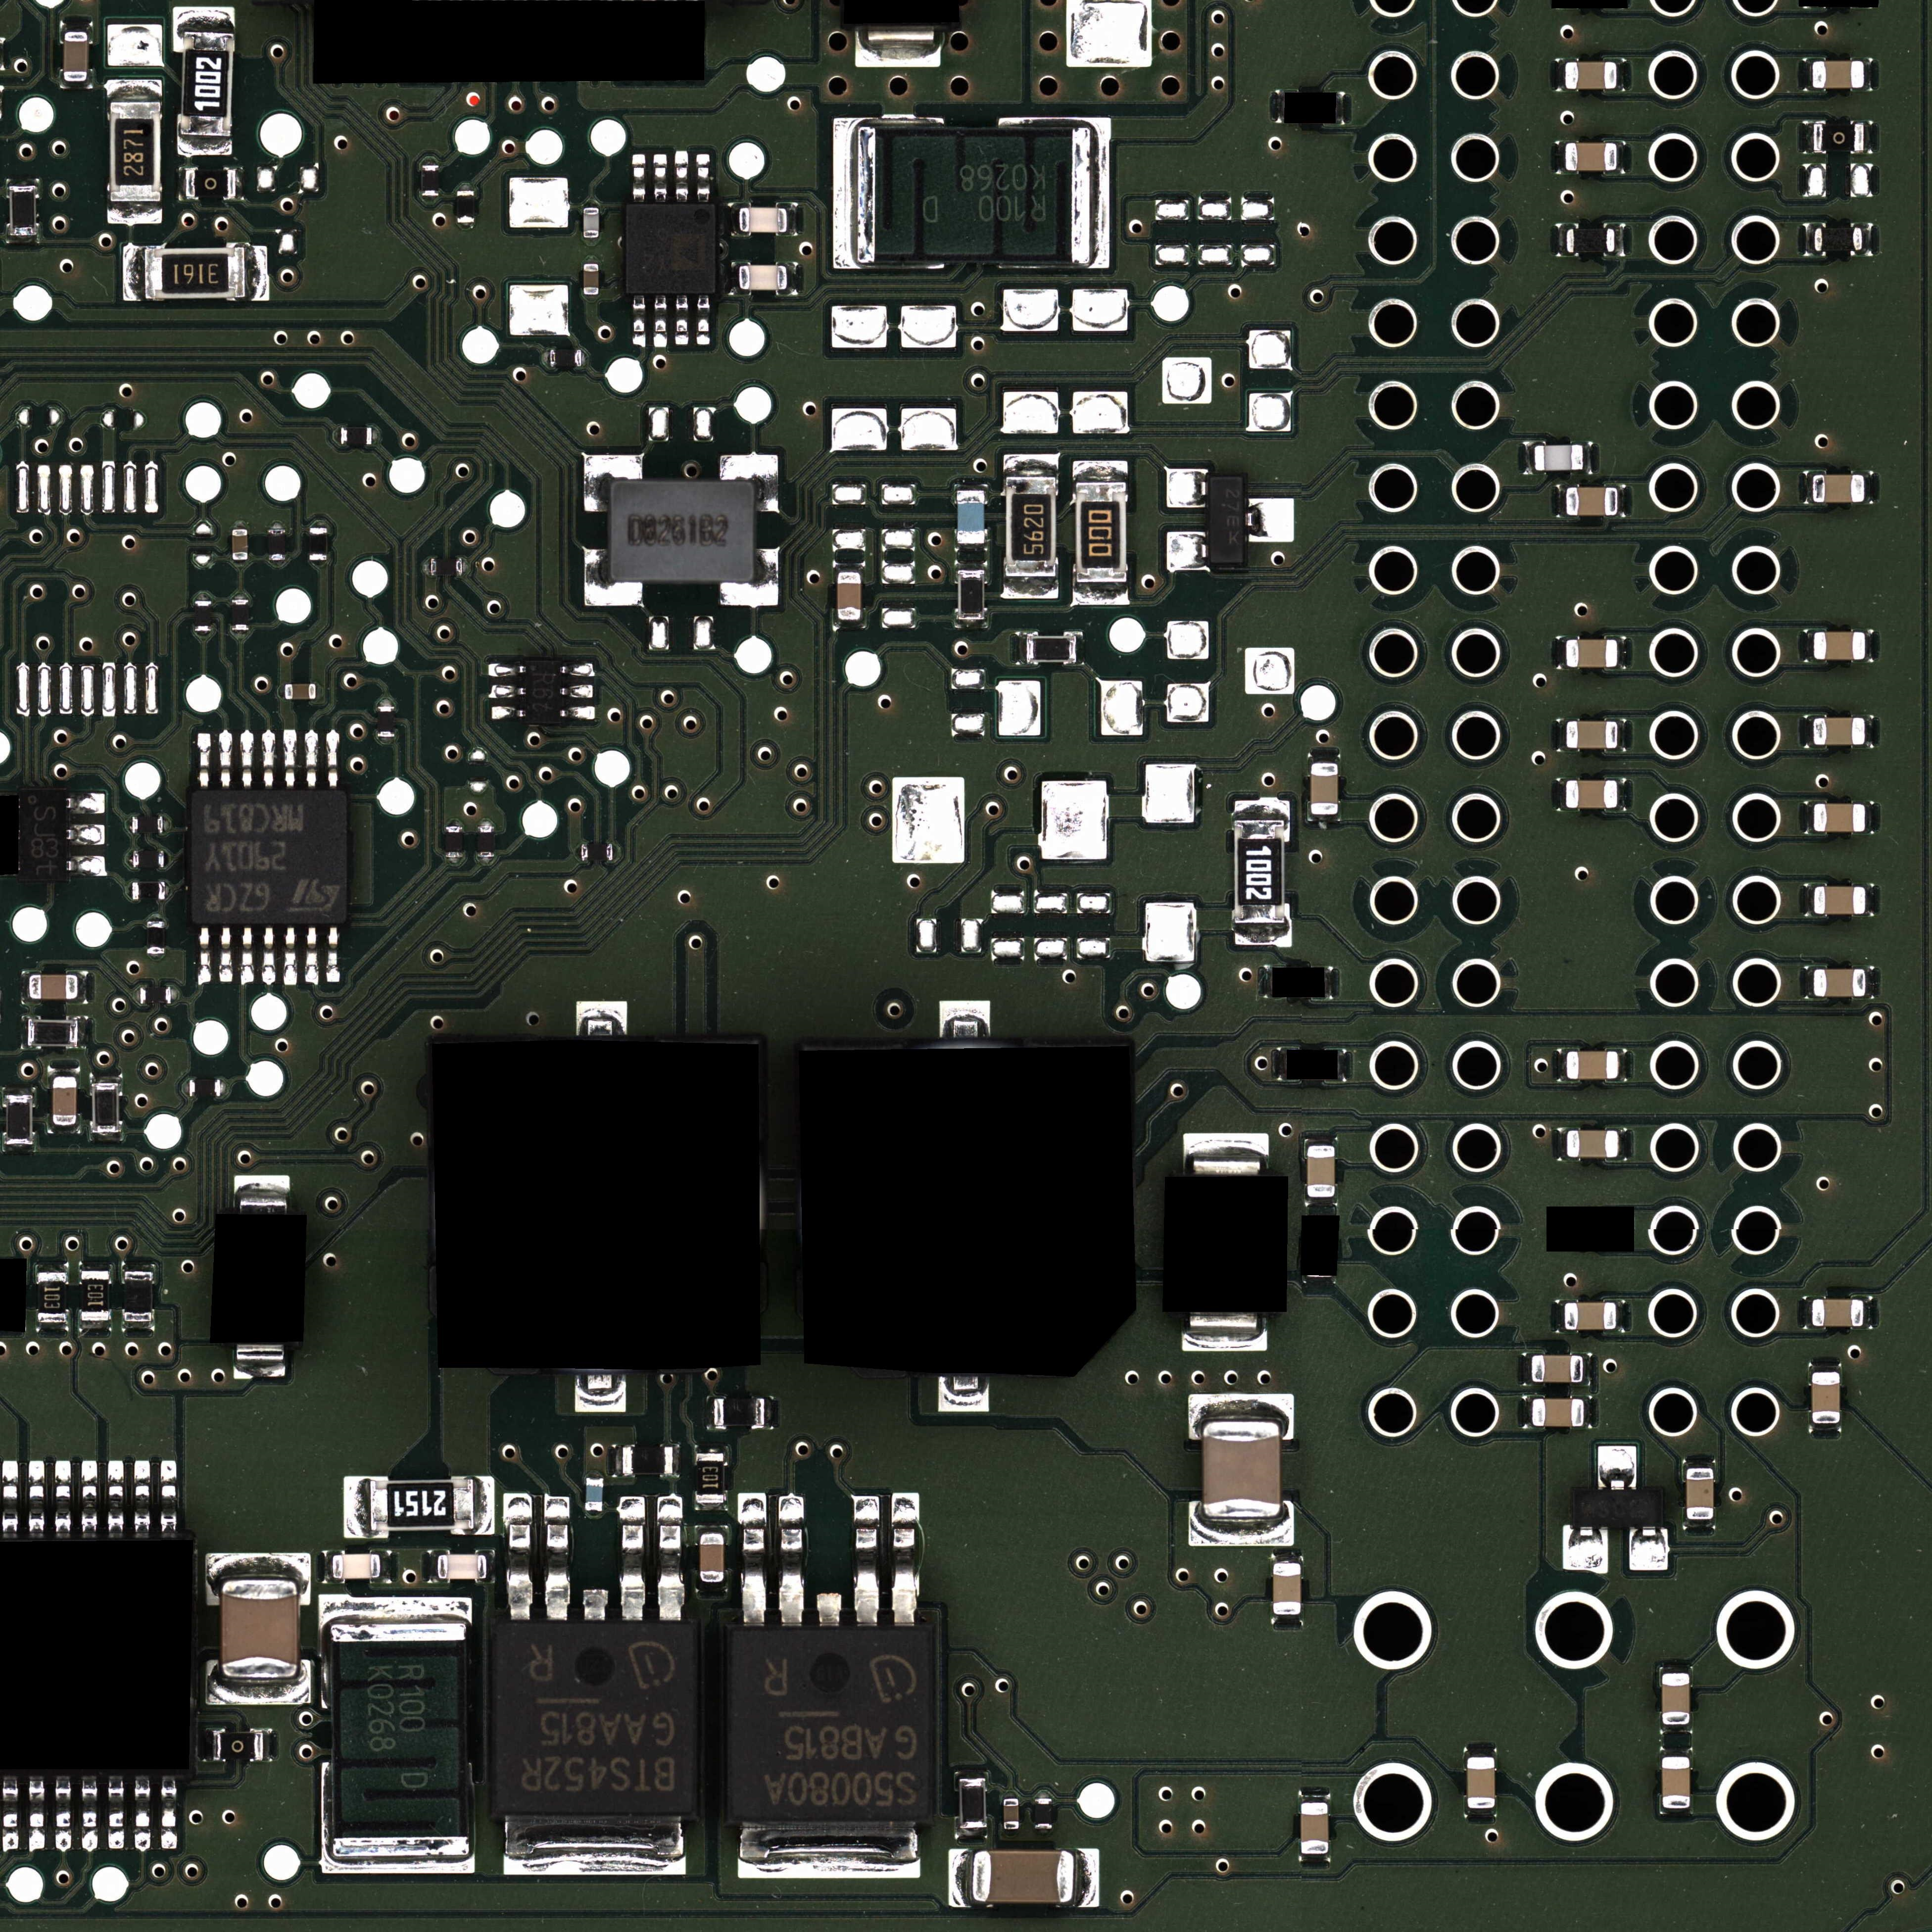Package: (493, 1623, 693, 1815), (729, 1630, 929, 1821), (859, 127, 1088, 268), (331, 1624, 466, 1855), (190, 789, 348, 926), (604, 480, 760, 581), (624, 203, 717, 295), (219, 1580, 299, 1678), (1201, 1422, 1283, 1517), (180, 32, 234, 136), (1233, 821, 1287, 923), (370, 1479, 473, 1532), (1075, 482, 1127, 582), (144, 247, 245, 299), (1005, 476, 1056, 577), (110, 101, 161, 202), (973, 1852, 1073, 1903), (21, 789, 66, 881), (1573, 1489, 1663, 1527), (1208, 476, 1245, 564), (525, 660, 561, 722), (957, 490, 985, 543), (1565, 143, 1617, 171), (186, 169, 236, 198), (1813, 631, 1865, 660), (1813, 804, 1865, 832), (1565, 721, 1617, 750), (714, 1398, 765, 1427), (1812, 475, 1865, 503), (1814, 886, 1867, 914), (1812, 718, 1865, 746), (1814, 631, 1866, 660), (1814, 804, 1865, 832), (1467, 1757, 1496, 1809), (1661, 1673, 1690, 1725), (623, 1446, 673, 1475), (1814, 886, 1866, 915), (1565, 61, 1617, 90), (1565, 780, 1617, 809), (1532, 1399, 1584, 1427), (1566, 487, 1618, 516), (1814, 969, 1866, 997), (1566, 1051, 1618, 1079), (1307, 1146, 1335, 1198), (1565, 639, 1617, 668), (1813, 123, 1864, 152), (1566, 639, 1617, 668), (1567, 1130, 1618, 1158), (1686, 1468, 1714, 1520), (1566, 721, 1618, 749), (1532, 1355, 1584, 1383), (1812, 61, 1864, 89), (1812, 1299, 1864, 1327), (1812, 1372, 1840, 1423), (1662, 1757, 1690, 1808), (1273, 1563, 1301, 1615), (1813, 718, 1865, 745), (1564, 1303, 1616, 1330), (1301, 1802, 1328, 1854), (1310, 763, 1338, 815), (124, 1271, 152, 1321), (81, 1271, 109, 1320), (697, 1453, 724, 1503), (213, 1733, 263, 1760), (38, 1272, 66, 1322), (29, 1019, 78, 1047), (958, 570, 985, 619), (10, 186, 36, 236), (960, 1779, 986, 1828), (93, 1083, 119, 1132), (1534, 445, 1583, 471), (6, 1095, 32, 1144), (1027, 636, 1076, 662), (29, 974, 78, 1000), (1566, 229, 1615, 254), (739, 265, 787, 290), (739, 207, 787, 233), (438, 1554, 486, 1579), (700, 1533, 724, 1583), (837, 572, 861, 621), (333, 1554, 381, 1579), (1814, 228, 1862, 252), (52, 1076, 76, 1125), (65, 32, 88, 81), (132, 882, 165, 900), (309, 528, 328, 560), (585, 1478, 603, 1511), (550, 349, 581, 367), (421, 165, 439, 196), (147, 921, 164, 954), (340, 427, 372, 445), (445, 826, 463, 858), (457, 191, 474, 223), (133, 850, 164, 868), (189, 1079, 221, 1097), (268, 529, 286, 560), (378, 706, 395, 737), (1035, 1798, 1052, 1829), (132, 816, 163, 833), (232, 599, 249, 630), (478, 826, 494, 857), (431, 559, 462, 576), (194, 600, 211, 631), (141, 986, 171, 1003), (581, 844, 613, 860), (285, 683, 316, 699), (232, 529, 248, 560), (1004, 1798, 1019, 1830), (583, 263, 598, 294), (583, 207, 599, 237)
Solder: (503, 1816, 686, 1876), (737, 1822, 920, 1879), (318, 1597, 472, 1624), (739, 1494, 767, 1626), (505, 1494, 533, 1622), (833, 119, 857, 269), (891, 1493, 918, 1628), (778, 1496, 805, 1626), (854, 1496, 880, 1628), (1181, 1133, 1270, 1171), (1180, 1316, 1269, 1353), (721, 454, 778, 512), (584, 455, 642, 512), (721, 549, 778, 606), (656, 1496, 682, 1621), (544, 1496, 570, 1621), (620, 1496, 645, 1621), (584, 550, 642, 606), (854, 31, 942, 66), (1189, 1517, 1294, 1546), (1188, 1394, 1294, 1421), (1090, 119, 1110, 268), (207, 1678, 311, 1706), (205, 1553, 311, 1579), (321, 1856, 476, 1874), (233, 1175, 292, 1212), (1246, 498, 1294, 542), (1563, 1527, 1608, 1571), (939, 1001, 991, 1038), (937, 1376, 991, 1412), (574, 1376, 627, 1412), (576, 1001, 627, 1036), (232, 1349, 288, 1380), (1597, 1446, 1637, 1490), (1629, 1528, 1668, 1570), (1166, 531, 1207, 570), (1167, 469, 1207, 507), (1074, 1848, 1100, 1907), (947, 1849, 973, 1908), (1, 1775, 21, 1853), (53, 1775, 73, 1853), (80, 1775, 99, 1853), (133, 1774, 152, 1852), (173, 7, 235, 31), (27, 1775, 46, 1853), (107, 1775, 126, 1853), (159, 1775, 179, 1852), (344, 1477, 369, 1538), (159, 1460, 178, 1538), (53, 1460, 72, 1539), (133, 1459, 151, 1538), (80, 1459, 98, 1538), (1, 1460, 20, 1538), (27, 1459, 46, 1538), (106, 1459, 124, 1538), (1234, 924, 1292, 947), (1072, 583, 1129, 606), (246, 245, 268, 301), (1003, 454, 1059, 476), (107, 203, 162, 225), (1003, 578, 1059, 599), (106, 80, 162, 101), (123, 245, 144, 301), (474, 1477, 494, 1534), (1072, 461, 1128, 482), (1234, 799, 1290, 820), (178, 137, 232, 156), (67, 855, 107, 876), (66, 793, 105, 814), (583, 1589, 608, 1621), (284, 927, 297, 986), (219, 729, 233, 788), (262, 927, 276, 985), (67, 824, 105, 845), (305, 927, 319, 985), (198, 927, 211, 985), (262, 729, 275, 787), (241, 927, 254, 985), (241, 729, 254, 787), (326, 927, 340, 983), (818, 1593, 841, 1626), (284, 729, 296, 787), (197, 732, 211, 788), (219, 927, 233, 983), (653, 296, 668, 348), (305, 729, 318, 787), (675, 151, 689, 201), (675, 295, 689, 346), (327, 729, 338, 788), (632, 296, 646, 347), (696, 153, 710, 202), (696, 296, 710, 346), (653, 153, 667, 201), (632, 154, 646, 202), (487, 663, 525, 676), (489, 685, 525, 698), (562, 663, 594, 676), (561, 706, 595, 720), (491, 706, 525, 719), (562, 685, 593, 698), (1015, 632, 1026, 665), (1077, 632, 1088, 666), (321, 1551, 332, 1583), (381, 1550, 392, 1583), (1524, 441, 1534, 475), (787, 203, 798, 236), (787, 262, 798, 294), (955, 1829, 988, 1838), (1584, 441, 1594, 474), (1464, 1747, 1497, 1757), (79, 1321, 111, 1331), (1308, 753, 1340, 763), (60, 22, 93, 32), (1866, 1297, 1876, 1329), (1660, 1810, 1692, 1820), (264, 1729, 273, 1762), (729, 203, 739, 236), (1809, 1362, 1841, 1372), (1523, 1396, 1532, 1428), (1802, 1296, 1811, 1328), (1555, 1301, 1564, 1333), (1660, 1747, 1692, 1756), (1808, 1424, 1841, 1433), (765, 1396, 773, 1429), (704, 1397, 713, 1430), (612, 1445, 621, 1478), (955, 620, 987, 629), (122, 1262, 155, 1271), (674, 1444, 683, 1477), (1263, 966, 1272, 998), (1556, 719, 1565, 752), (1556, 637, 1565, 670), (122, 1322, 154, 1331), (79, 1261, 111, 1270), (730, 262, 739, 294), (1556, 778, 1565, 811), (1805, 223, 1814, 255), (833, 562, 865, 571), (1585, 1397, 1594, 1429), (1308, 815, 1341, 824), (1325, 966, 1334, 999), (1339, 1050, 1348, 1082), (1863, 224, 1872, 256), (1615, 224, 1624, 256), (1557, 224, 1566, 256), (1617, 140, 1626, 172), (1617, 59, 1626, 91), (1555, 59, 1564, 92), (429, 1549, 437, 1583), (955, 561, 987, 570), (36, 1263, 68, 1272), (1299, 1793, 1331, 1802), (1271, 1615, 1303, 1624), (6, 236, 39, 244), (1659, 1664, 1692, 1673), (7, 176, 41, 185), (487, 1550, 495, 1583), (1271, 1554, 1303, 1563), (48, 1067, 79, 1076), (3, 1085, 35, 1094), (1619, 1128, 1628, 1159), (1337, 92, 1345, 125), (833, 621, 866, 629), (1683, 1520, 1716, 1529), (1523, 1353, 1531, 1386), (3, 1145, 36, 1153), (1298, 1856, 1330, 1864), (1275, 91, 1284, 124), (1584, 1353, 1593, 1386), (1618, 636, 1627, 669), (1465, 1809, 1497, 1817), (49, 1126, 81, 1134), (696, 1584, 728, 1593), (955, 544, 987, 553), (1556, 141, 1564, 173), (91, 1074, 122, 1082), (696, 1525, 727, 1533), (1617, 1301, 1625, 1332), (696, 1445, 727, 1453), (91, 1133, 122, 1141), (1557, 1128, 1566, 1159), (1619, 1049, 1628, 1080), (1557, 1049, 1566, 1080), (1683, 1459, 1716, 1467), (236, 167, 244, 200), (1618, 484, 1626, 517), (178, 167, 186, 200), (1305, 1137, 1338, 1145), (1304, 1198, 1337, 1206), (1866, 472, 1874, 504), (1618, 778, 1626, 811), (695, 1503, 727, 1511), (955, 1770, 987, 1778), (1660, 1725, 1692, 1733), (204, 1729, 212, 1761), (1557, 484, 1565, 517), (1804, 472, 1812, 504), (21, 971, 29, 1003), (79, 972, 87, 1003), (79, 1015, 87, 1047), (37, 1323, 68, 1331), (1618, 719, 1626, 751), (20, 1016, 28, 1048), (1304, 1278, 1335, 1285), (1866, 966, 1873, 999), (1279, 1048, 1286, 1081), (1806, 883, 1813, 916), (1805, 966, 1812, 998), (1867, 883, 1874, 916), (1805, 801, 1812, 833), (1804, 715, 1811, 747), (1806, 628, 1813, 661), (60, 82, 92, 89), (1865, 715, 1872, 747), (1866, 801, 1872, 833), (1867, 628, 1873, 661), (1865, 121, 1872, 153), (1865, 58, 1871, 90), (1805, 58, 1811, 90), (1806, 122, 1812, 153), (955, 483, 987, 489), (373, 425, 380, 447), (333, 425, 340, 447), (582, 348, 588, 370), (543, 348, 549, 370), (423, 558, 430, 577), (463, 558, 470, 577), (164, 816, 171, 835), (165, 849, 172, 868), (125, 882, 132, 901), (171, 986, 178, 1004), (221, 1079, 228, 1097), (181, 1079, 189, 1097), (125, 816, 132, 834), (125, 850, 132, 868), (146, 954, 165, 961), (377, 738, 395, 745), (132, 987, 139, 1004), (167, 881, 173, 900), (377, 699, 395, 705), (421, 158, 438, 165), (457, 183, 474, 190), (457, 223, 475, 230), (585, 1511, 603, 1518), (585, 1471, 604, 1477), (147, 914, 166, 920), (422, 196, 438, 203), (583, 200, 599, 207), (583, 239, 599, 245), (1004, 1790, 1018, 1798), (582, 256, 599, 262), (583, 295, 600, 302), (446, 819, 463, 825), (478, 820, 494, 826), (446, 859, 463, 865), (479, 858, 495, 864), (1036, 1791, 1050, 1797), (1036, 1830, 1051, 1836), (232, 524, 248, 530), (268, 524, 286, 529), (232, 595, 249, 600), (1005, 1831, 1019, 1836), (309, 523, 327, 528), (309, 560, 327, 565), (269, 560, 286, 565), (194, 596, 212, 601), (232, 560, 248, 565), (316, 684, 321, 699), (613, 845, 618, 860), (576, 845, 581, 860), (194, 631, 212, 635), (280, 684, 285, 699), (232, 630, 249, 634)
